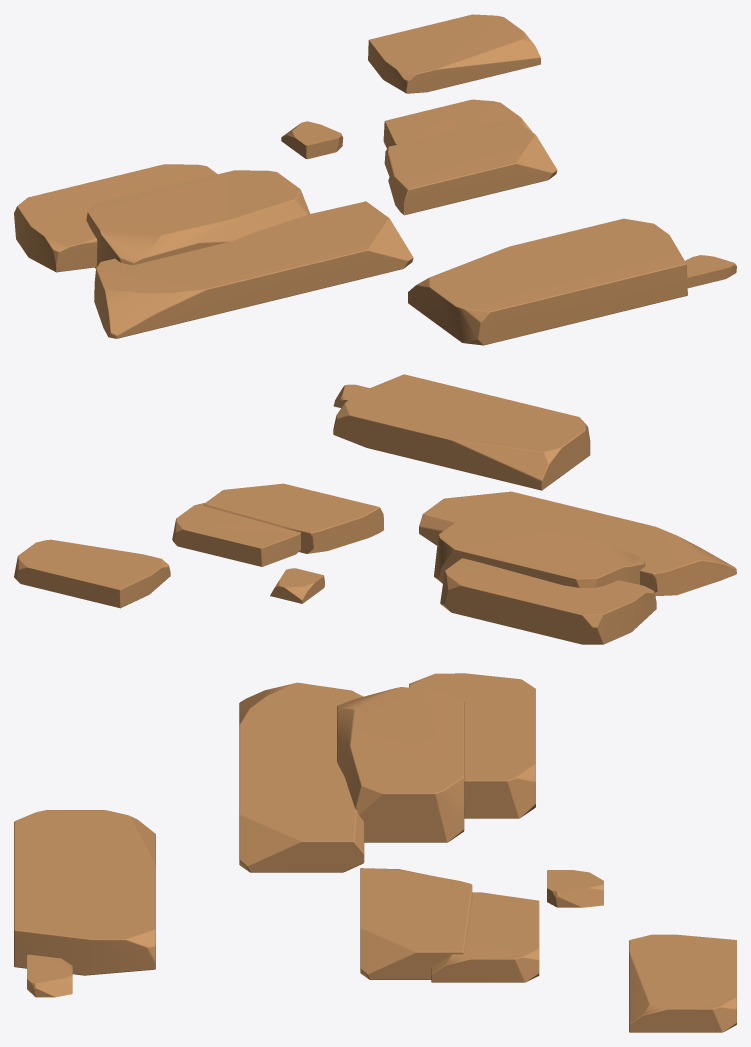
The model's file is Rock path type3.fbx.
3 renders of one model, top to bottom at view 1: azimuth 30°, elevation 25°; view 2: azimuth 150°, elevation 25°; view 3: azimuth 270°, elevation 25°, orthographic. The views are drawn at different scales.
Visible parts, largest first — view 1: Cube.122, Cube.120, Cube.124, Cube.125, Cube.128, Cube.123, Cube.127, Cube.126, Cube.121; view 2: Cube.120, Cube.123, Cube.122, Cube.124, Cube.128, Cube.125, Cube.127, Cube.126; view 3: Cube.120, Cube.122, Cube.124, Cube.123, Cube.125, Cube.128, Cube.127, Cube.126, Cube.121.
Boxes of the visible parts, bbox=[...] form: Cube.122: bbox=[94, 201, 413, 338]; Cube.120: bbox=[408, 218, 687, 345]; Cube.124: bbox=[86, 170, 310, 268]; Cube.125: bbox=[384, 119, 557, 215]; Cube.128: bbox=[368, 14, 540, 93]; Cube.123: bbox=[14, 164, 217, 272]; Cube.127: bbox=[383, 99, 531, 148]; Cube.126: bbox=[281, 121, 343, 159]; Cube.121: bbox=[685, 255, 736, 288]; Cube.120: bbox=[333, 374, 590, 490]; Cube.123: bbox=[440, 558, 656, 644]; Cube.122: bbox=[419, 491, 736, 596]; Cube.124: bbox=[434, 516, 645, 587]; Cube.128: bbox=[14, 539, 170, 608]; Cube.125: bbox=[203, 483, 384, 553]; Cube.127: bbox=[172, 502, 300, 566]; Cube.126: bbox=[270, 568, 324, 603]; Cube.120: bbox=[14, 810, 155, 975]; Cube.122: bbox=[239, 682, 364, 872]; Cube.124: bbox=[337, 687, 464, 842]; Cube.123: bbox=[409, 673, 535, 818]; Cube.125: bbox=[360, 868, 472, 979]; Cube.128: bbox=[629, 934, 736, 1032]; Cube.127: bbox=[431, 892, 539, 982]; Cube.126: bbox=[547, 870, 603, 907]; Cube.121: bbox=[27, 954, 72, 997].
Size of the model in its own units: 1470 by 103 by 1349.
